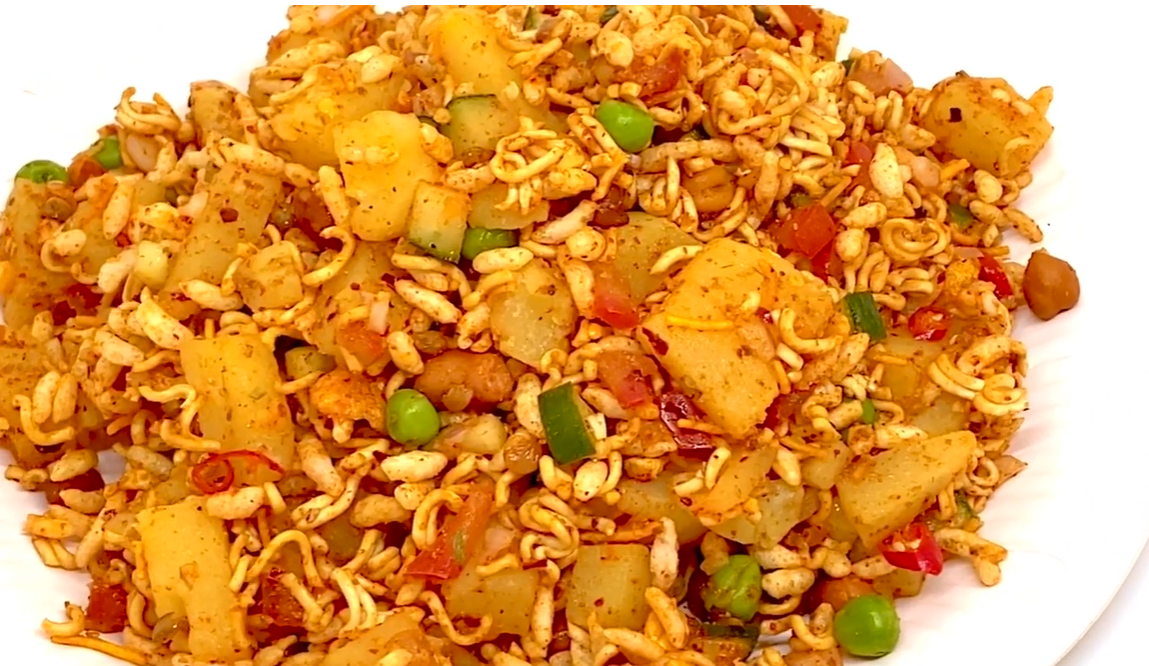chatpate: (17, 60, 1043, 651)
